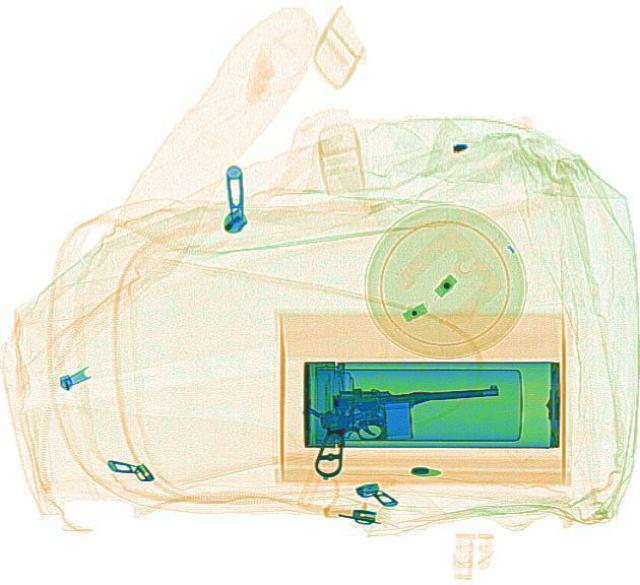Gun: (306, 381, 499, 477)
